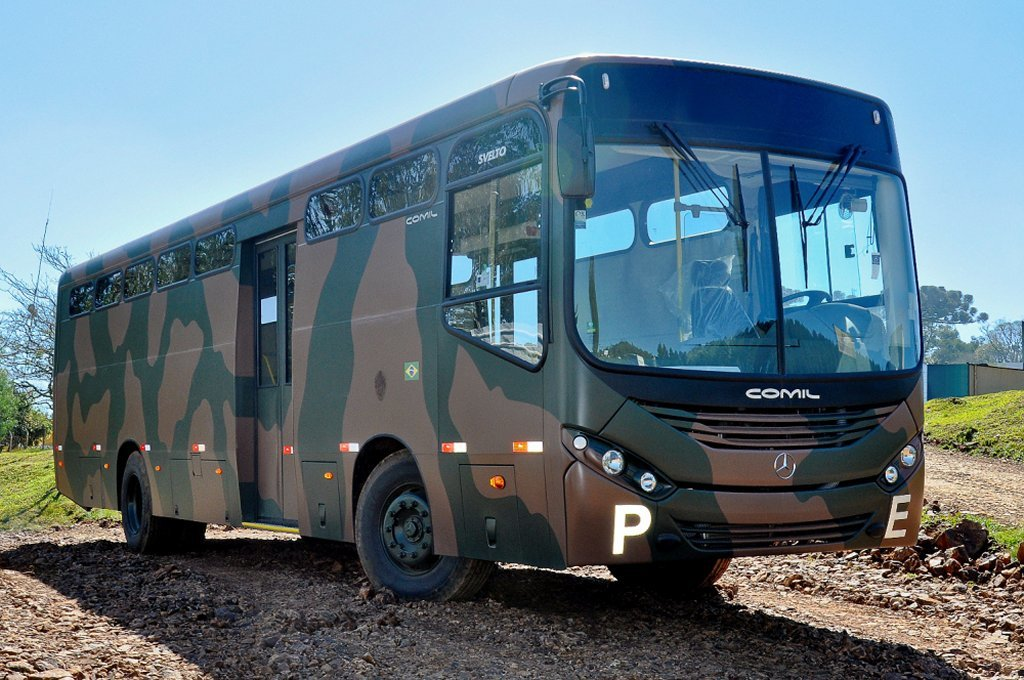Bus: (51, 49, 922, 605)
